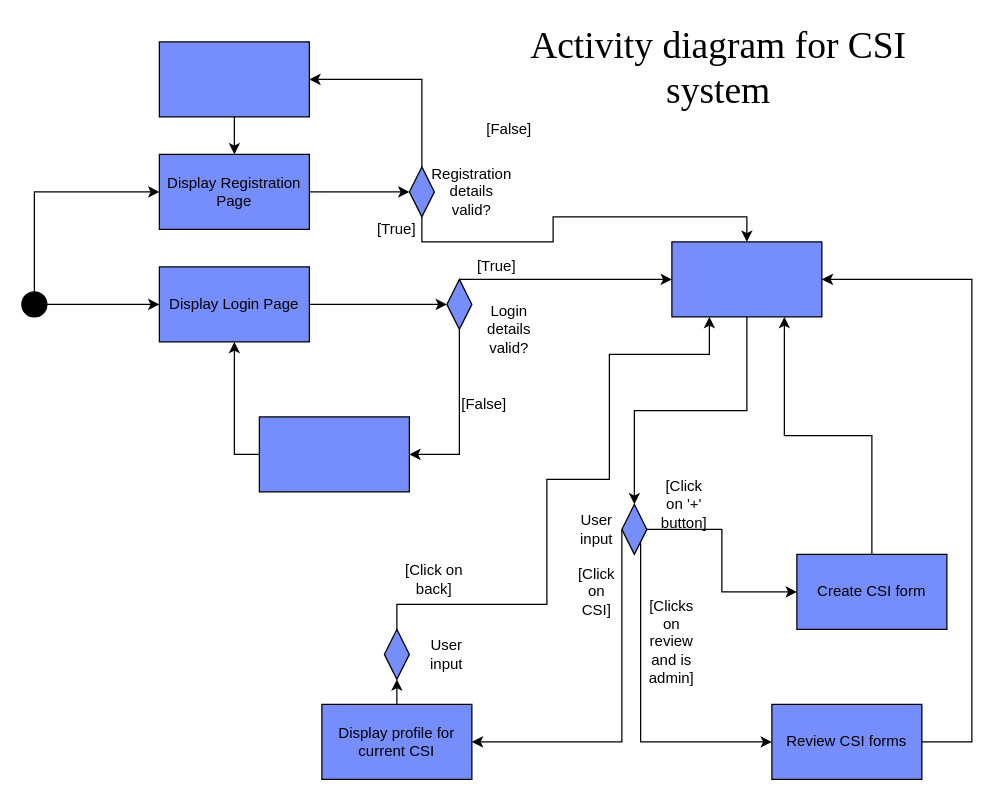
This 1004x801 diagram has some shape labels left out. The shapes that lost their labels are listed below. From the top down, each one's box as (x1, y1, x2, y2) in pixels, then its label:
(158, 41, 309, 117): Display invalid registration message
(671, 241, 822, 317): Display Home Page With 3 CSI tabs
(258, 416, 409, 492): Display invalid credentials message
